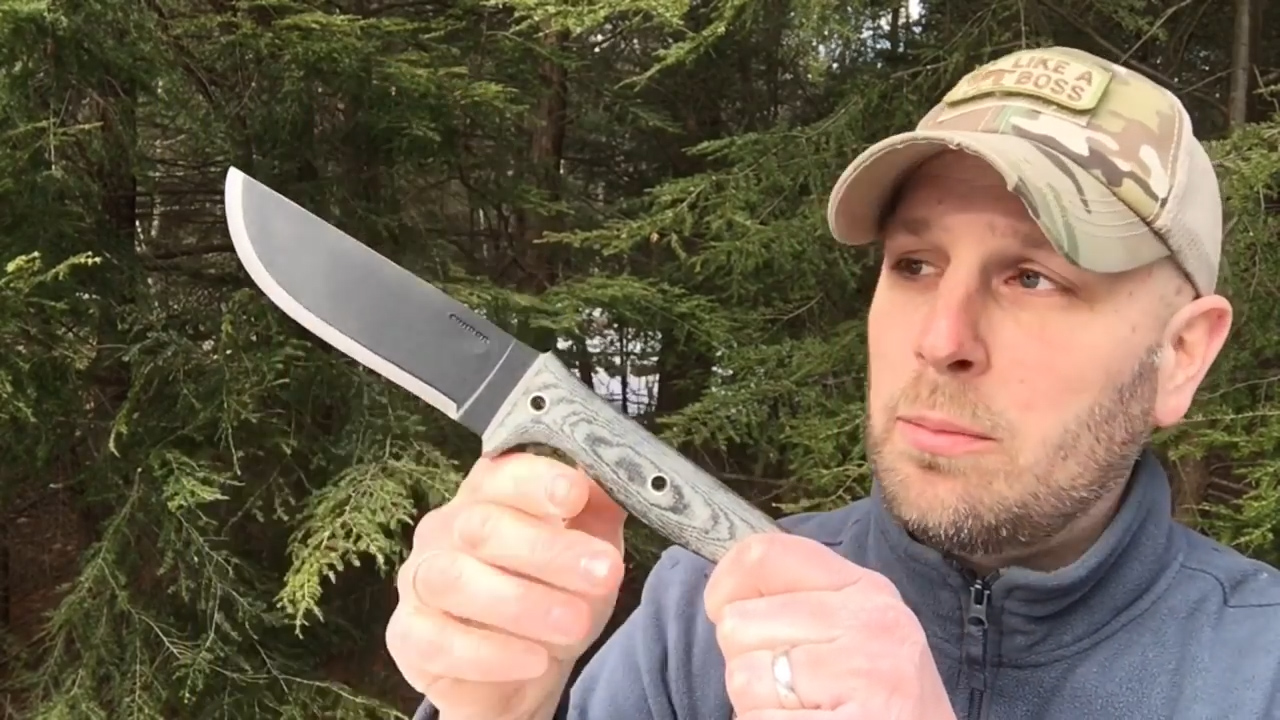knife: (209, 159, 649, 518)
